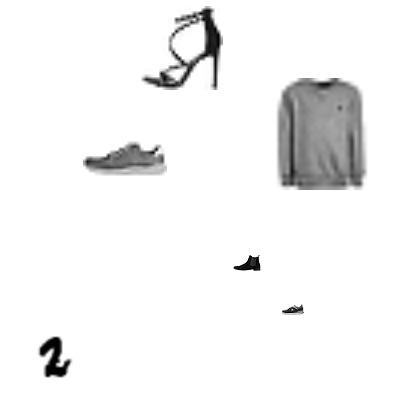2: (26, 329, 82, 385)
Ankle_boot: (233, 249, 261, 277)
Pullover: (266, 78, 378, 190)
Sandal: (139, 6, 223, 90)
Sneaker: (83, 115, 167, 199), (282, 298, 304, 320)
